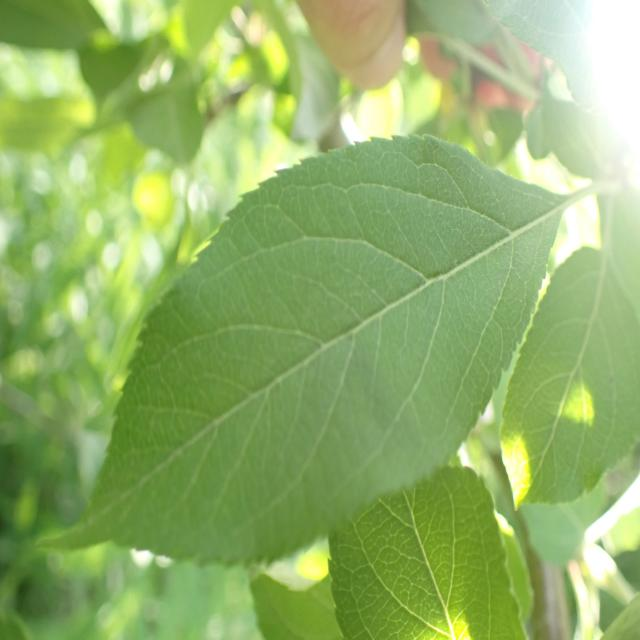healthy: (33, 133, 562, 570), (499, 186, 640, 513), (328, 462, 527, 640)
